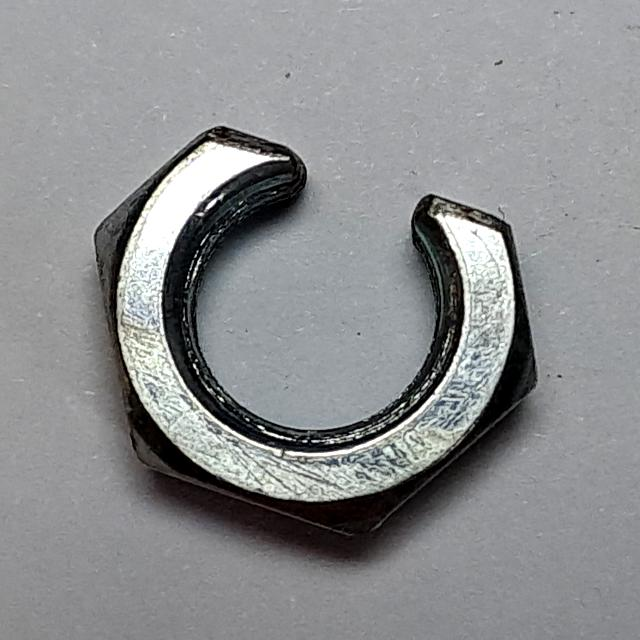Fracture: (79, 115, 561, 559)
